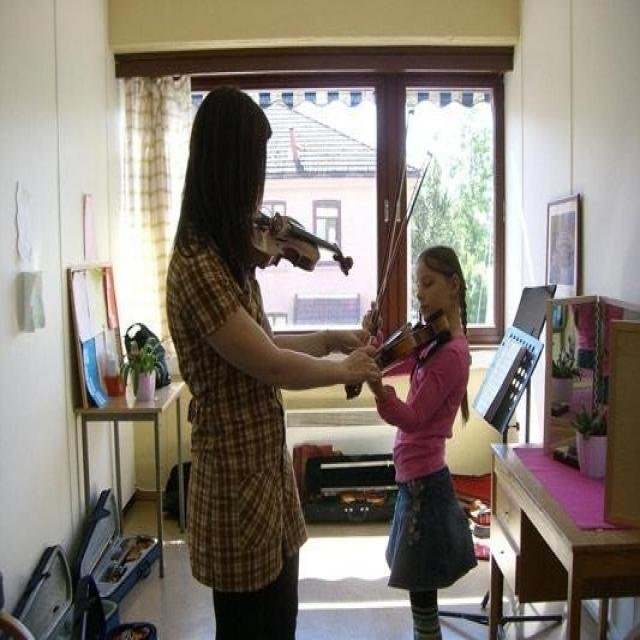violin: (344, 308, 452, 395), (240, 205, 355, 279)
